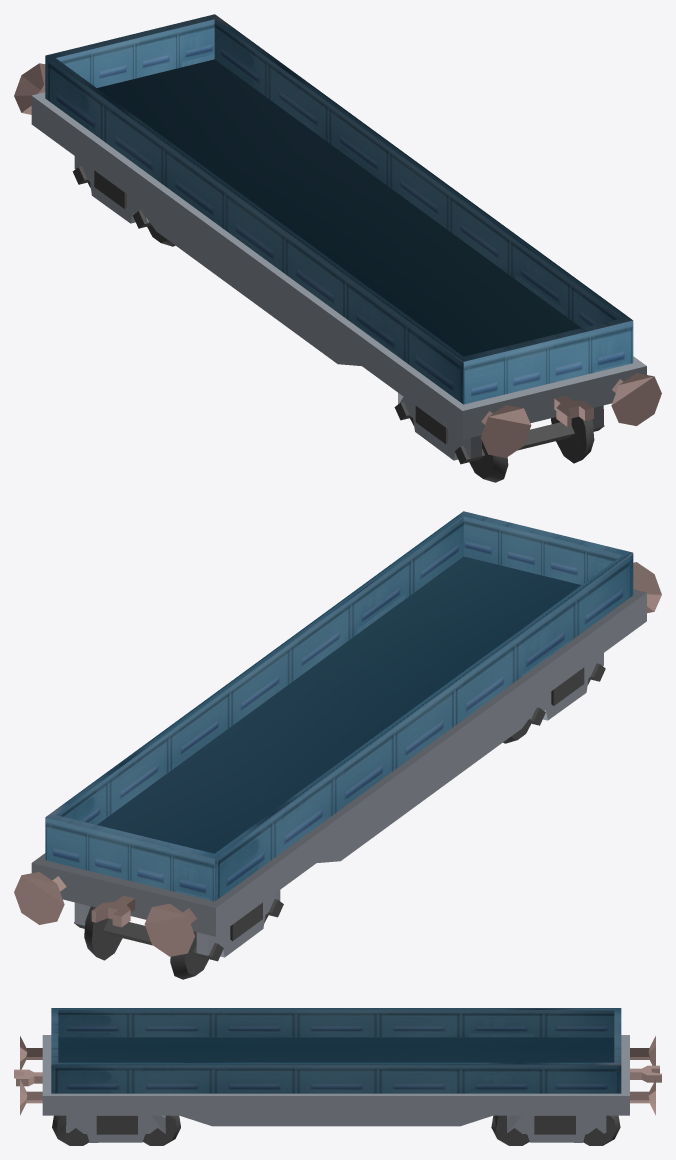
The model's file is gondolacar.dae.
The picture shows the model from 3 angles, top to bottom: view 1: azimuth 30°, elevation 25°; view 2: azimuth 150°, elevation 25°; view 3: azimuth 270°, elevation 25°; orthographic projection. The views are drawn at different scales.
Visible parts, largest first — view 1: 9.0.242.0_Pts_Material__4__Surf, 9.0.242.0_Pts_Material__2__Surf, 9.0.242.0_Pts_Material__3__Surf, 9.0.242.0_Pts_Material_Surf; view 2: 9.0.242.0_Pts_Material__4__Surf, 9.0.242.0_Pts_Material__2__Surf, 9.0.242.0_Pts_Material__3__Surf, 9.0.242.0_Pts_Material_Surf; view 3: 9.0.242.0_Pts_Material__4__Surf, 9.0.242.0_Pts_Material__2__Surf, 9.0.242.0_Pts_Material_Surf, 9.0.242.0_Pts_Material__3__Surf.
Part boxes in pixels (x1=…): 9.0.242.0_Pts_Material__4__Surf: x1=45, y1=14, x2=633, y2=404; 9.0.242.0_Pts_Material__2__Surf: x1=31, y1=92, x2=646, y2=460; 9.0.242.0_Pts_Material__3__Surf: x1=14, y1=63, x2=661, y2=457; 9.0.242.0_Pts_Material_Surf: x1=72, y1=166, x2=604, y2=482; 9.0.242.0_Pts_Material__4__Surf: x1=45, y1=511, x2=633, y2=901; 9.0.242.0_Pts_Material__2__Surf: x1=31, y1=589, x2=646, y2=957; 9.0.242.0_Pts_Material__3__Surf: x1=14, y1=562, x2=661, y2=956; 9.0.242.0_Pts_Material_Surf: x1=74, y1=663, x2=605, y2=979; 9.0.242.0_Pts_Material__4__Surf: x1=51, y1=1008, x2=621, y2=1093; 9.0.242.0_Pts_Material__2__Surf: x1=42, y1=1035, x2=629, y2=1142; 9.0.242.0_Pts_Material_Surf: x1=52, y1=1115, x2=620, y2=1145; 9.0.242.0_Pts_Material__3__Surf: x1=14, y1=1036, x2=661, y2=1115.
Bounding box in the file's own units: 32.06 × 23.55 × 143.
4 materials, 1 textured.
